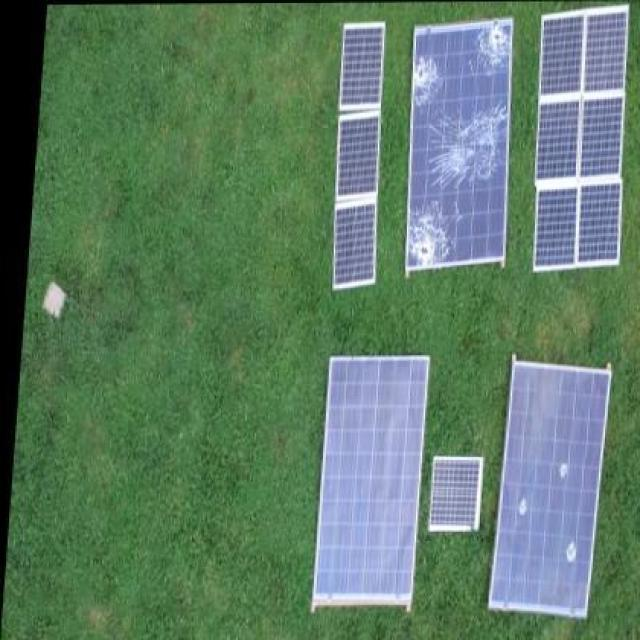cracked: (406, 15, 514, 273)
soiled: (489, 355, 613, 619)
